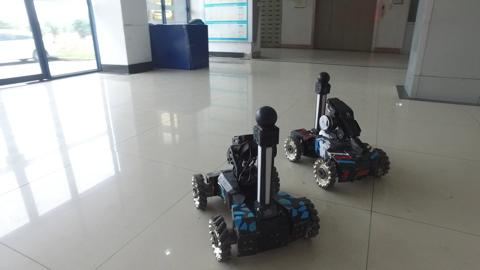chariot: (187, 101, 320, 259), (284, 65, 397, 190)
